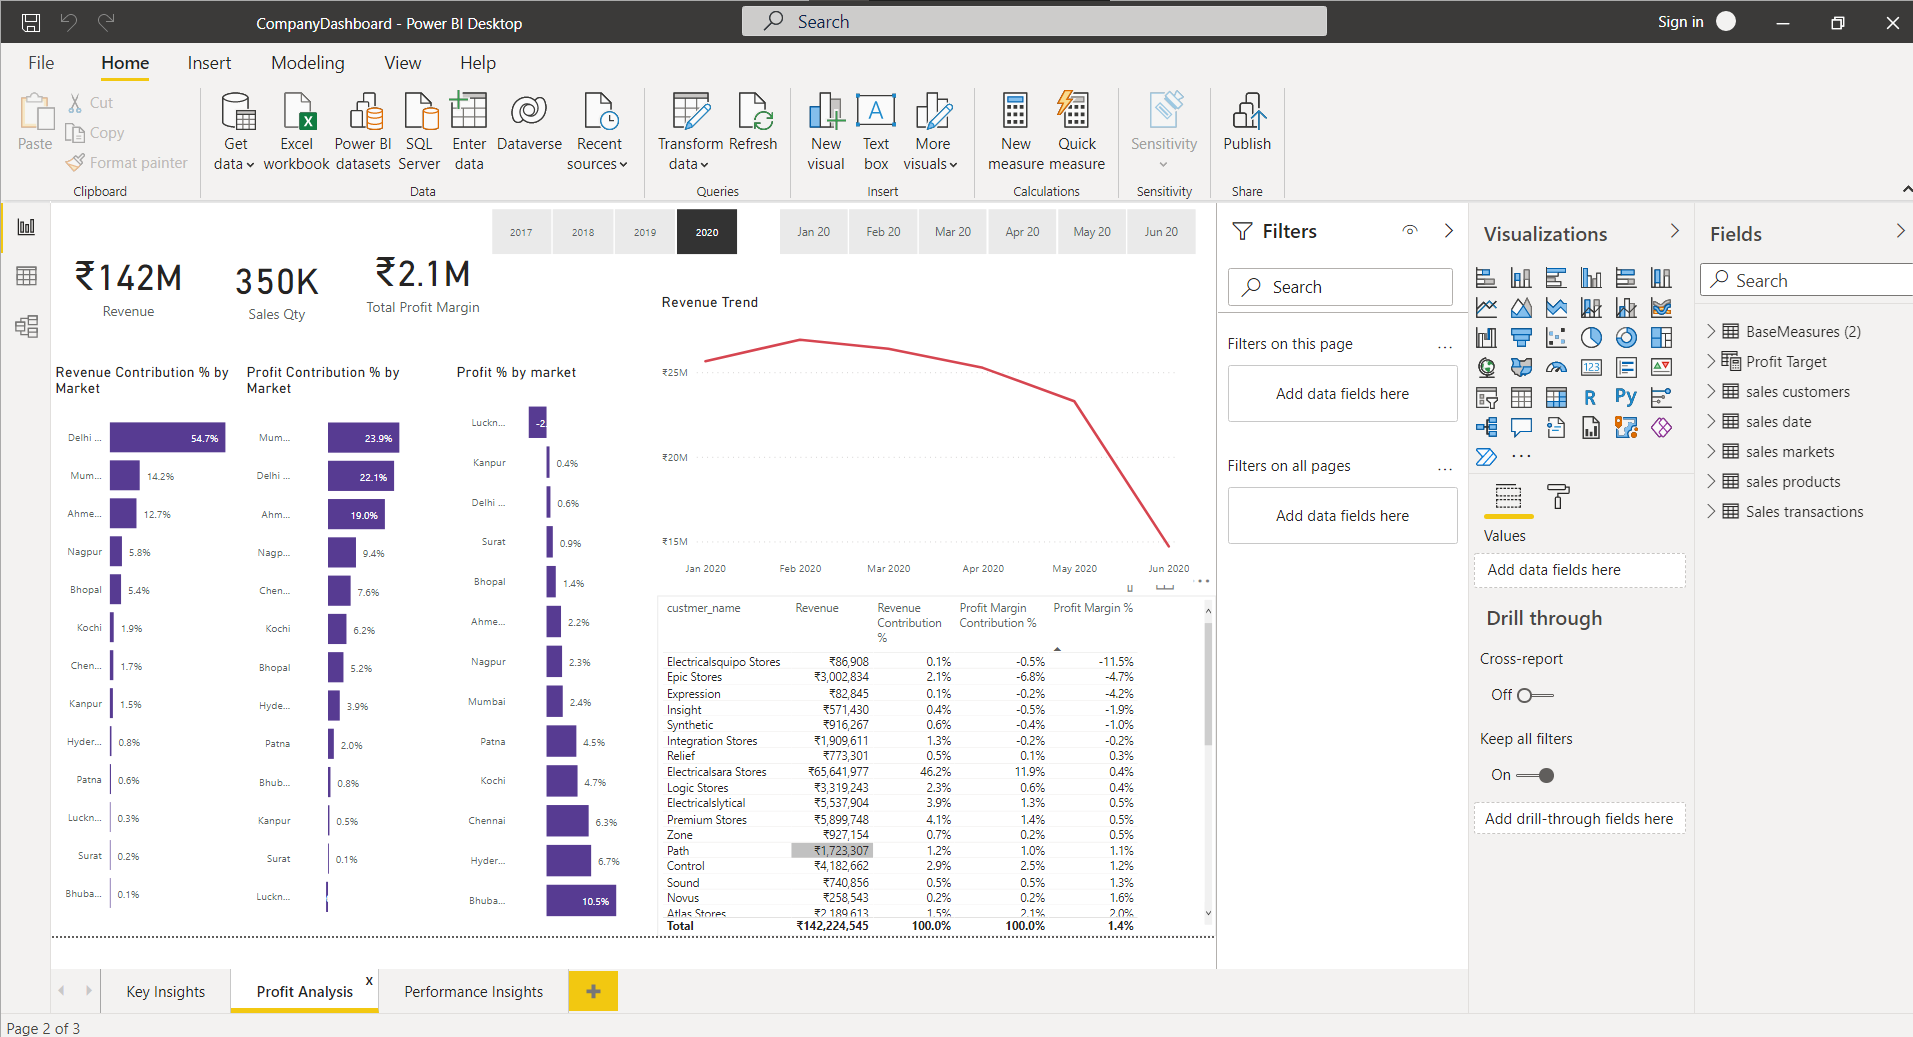

Layout of this report page (visuals, bound fields, positions):
{"tool":"powerbi","page":{"name":"Profit Analysis","canvas":[1350,850],"ordinal":1},"visuals":[{"type":"card","fields":{"Values":["BaseMeasures (2).Revenue"]},"box":[0,0,179.6,184.8],"z":0},{"type":"card","fields":{"Values":["BaseMeasures (2).Sales Qty"]},"box":[179.6,0,164.1,193],"z":1000},{"type":"barChart","title":"Profit % by market","fields":{"Y":["BaseMeasures (2).Profit Margin %"],"Category":["sales markets.markets_name"]},"box":[464.5,184.8,230.2,664.8],"z":2000},{"type":"barChart","title":"Profit Contribution % by Market","fields":{"Y":["BaseMeasures (2).Profit Margin Contribution %"],"Category":["sales markets.markets_name"]},"box":[221.9,185.8,208.5,659.6],"z":3000},{"type":"slicer","fields":{"Values":["sales date.year"]},"box":[483.2,0,335.5,66.5],"z":4000},{"type":"slicer","fields":{"Values":["sales date.cy_date"]},"box":[818.6,0,531.7,66.5],"z":5000},{"type":"tableEx","title":"Top 5 Customers","fields":{"Values":["sales customers.custmer_name","BaseMeasures (2).Revenue","BaseMeasures (2).Revenue Contribution %","BaseMeasures (2).Profit Margin Contribution %","BaseMeasures (2).Profit Margin %"]},"box":[701.9,454.2,648.3,395.4],"z":6000},{"type":"lineChart","title":"Revenue Trend","fields":{"Y":["BaseMeasures (2).Revenue"],"Category":["sales date.cy_date"]},"box":[701.9,104.3,621.4,338.6],"z":7000},{"type":"card","fields":{"Values":["BaseMeasures (2).Total Profit Margin"]},"box":[349.9,0,161,176.5],"z":8000},{"type":"barChart","title":"Revenue Contribution % by Market","fields":{"Y":["BaseMeasures (2).Revenue Contribution %"],"Category":["sales markets.markets_name"]},"box":[0,185.8,219.9,654.5],"z":9000}]}

Visuals, with their boxes on the page's 1350x850 design canvas (x1, y1, x2, y2). These are canvas units, not pixel positions in the 1913x1037 screenshot, which may show the page scaled, cropped or inside an application window:
card - BaseMeasures (2).Revenue: region(0, 0, 180, 185)
card - BaseMeasures (2).Sales Qty: region(180, 0, 344, 193)
"Profit % by market" barChart: region(464, 185, 695, 850)
"Profit Contribution % by Market" barChart: region(222, 186, 430, 845)
slicer - sales date.year: region(483, 0, 819, 66)
slicer - sales date.cy_date: region(819, 0, 1350, 66)
"Top 5 Customers" tableEx: region(702, 454, 1350, 850)
"Revenue Trend" lineChart: region(702, 104, 1323, 443)
card - BaseMeasures (2).Total Profit Margin: region(350, 0, 511, 176)
"Revenue Contribution % by Market" barChart: region(0, 186, 220, 840)
